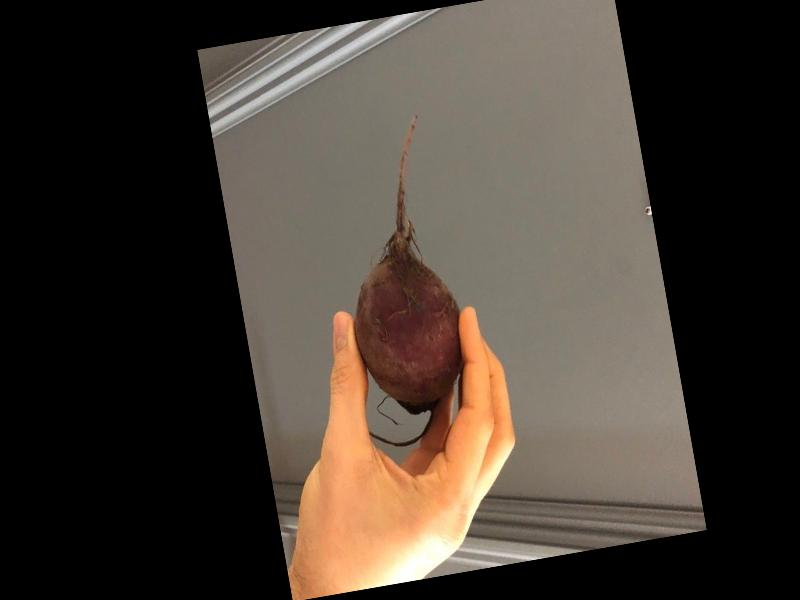Beet: (317, 107, 477, 449)
